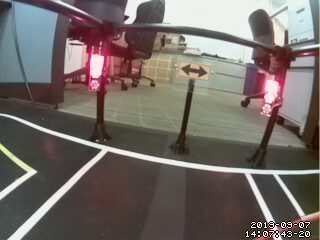Left_Right_sign: (173, 61, 212, 84)
Traffic_light_red: (259, 78, 282, 120), (92, 52, 107, 91)
